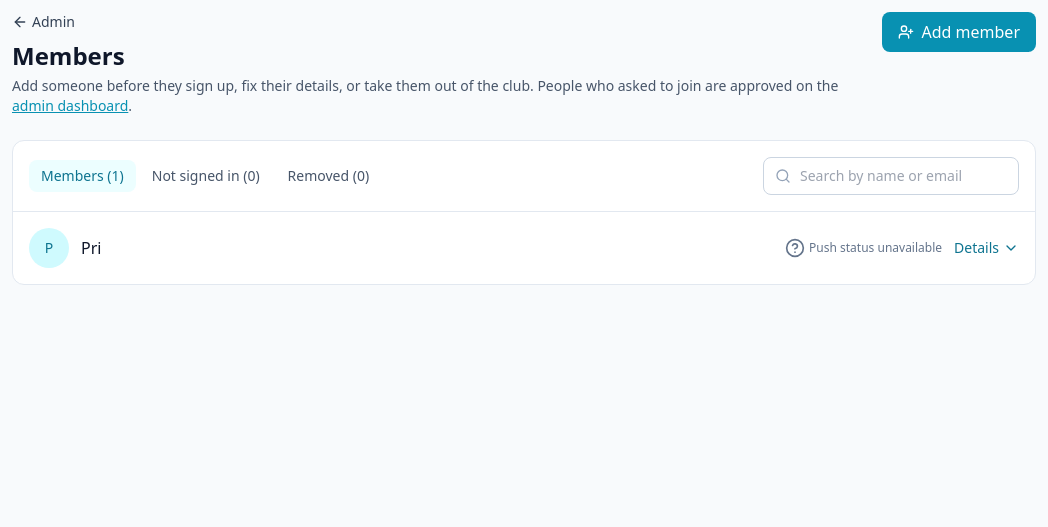
Test: the roll › shows the nickname the club uses, with full identity inside details
Expected: the text "Pri" is shown, [81,237,101,259]
Expected: the text "Priya Raman" is not shown
Click the button with aria-label "details for pri".
click(49, 248)  # box [29,228,1019,268]
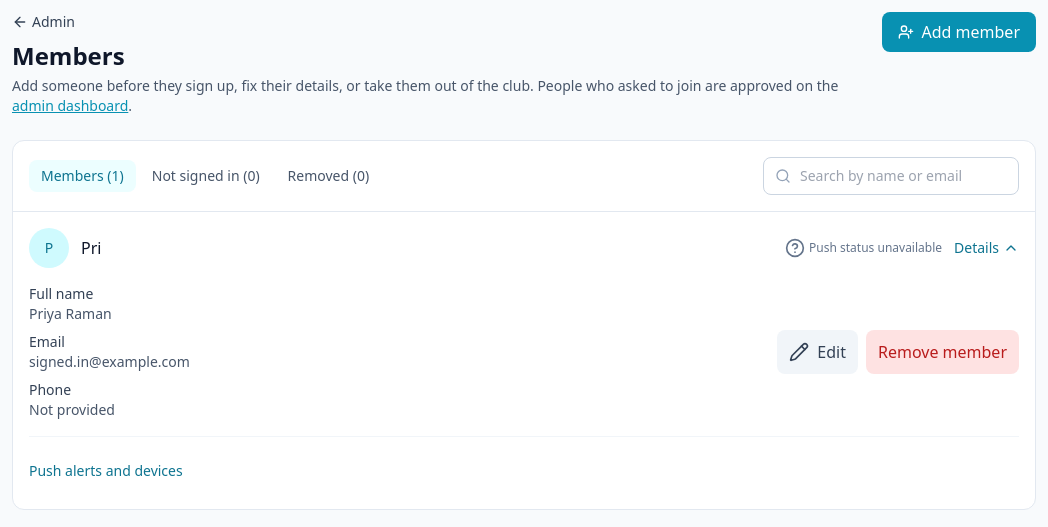
Expected: the text "Priya Raman" is shown, [29,304,112,323]
